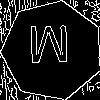M: (27, 25, 71, 73)
